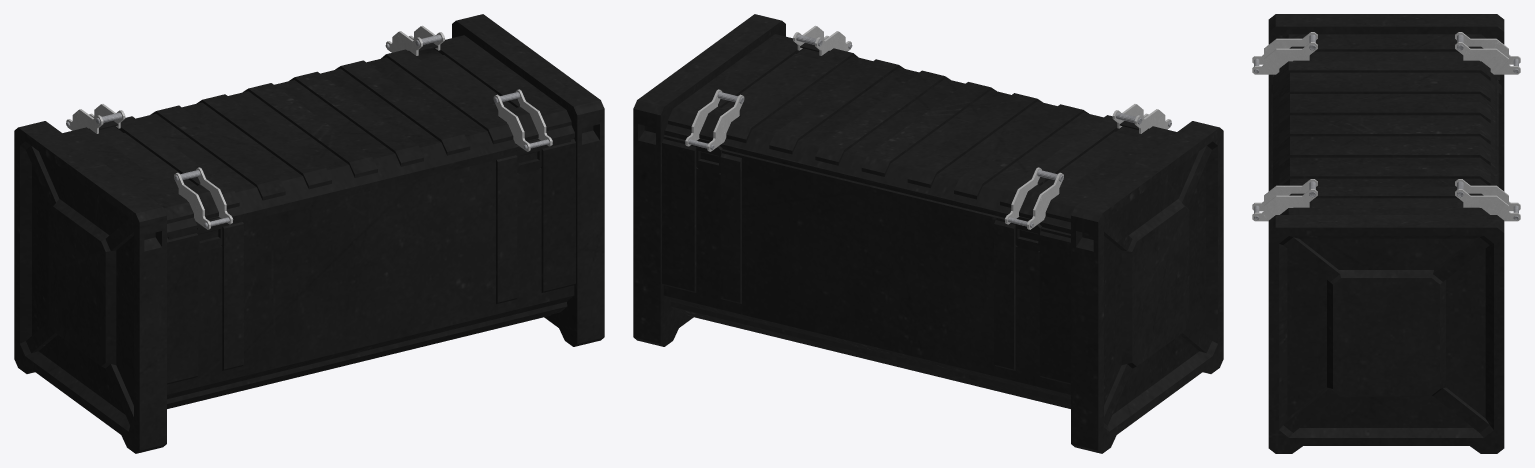
Rendered from Contentor 1.fbx.
3 renders of one model, left to right at view 1: azimuth 30°, elevation 25°; view 2: azimuth 150°, elevation 25°; view 3: azimuth 270°, elevation 25°, orthographic. The views are drawn at different scales.
Parts seen in each view (by area): view 1: Contentor; view 2: Contentor; view 3: Contentor.
Boxes of the visible parts, x1=… form: Contentor: x1=14, y1=14, x2=604, y2=453; Contentor: x1=633, y1=14, x2=1223, y2=453; Contentor: x1=1252, y1=14, x2=1520, y2=453.
Size of the model in its own units: 4.04 by 2.09 by 2.15.
Materials: 3 (3 with a texture image).
